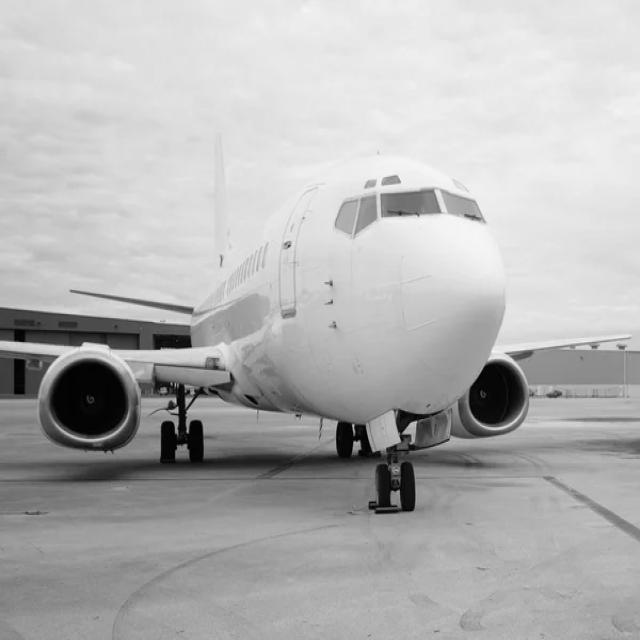Aircraft: (3, 139, 623, 508)
